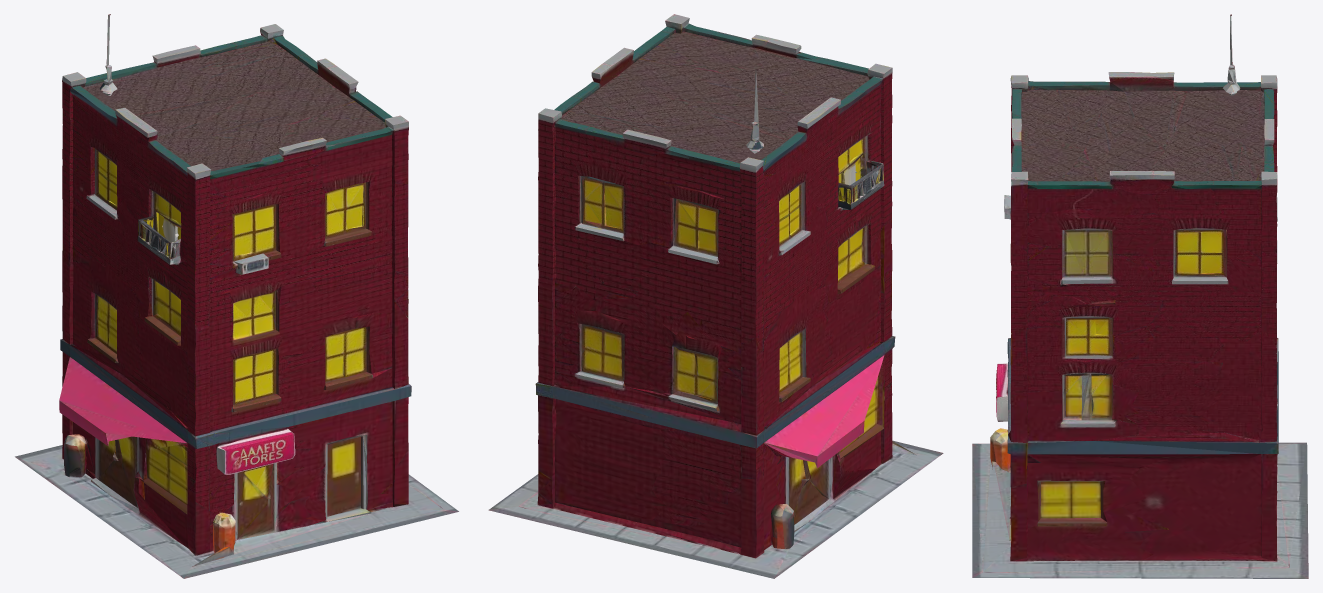
Rendered from predio-b.glb.
3 renders of one model, left to right at view 1: azimuth 30°, elevation 25°; view 2: azimuth 150°, elevation 25°; view 3: azimuth 270°, elevation 25°, orthographic. The views are drawn at different scales.
Size of the model in its own units: 1.2 by 1.87 by 1.25.
Materials: 1 (1 with a texture image).
